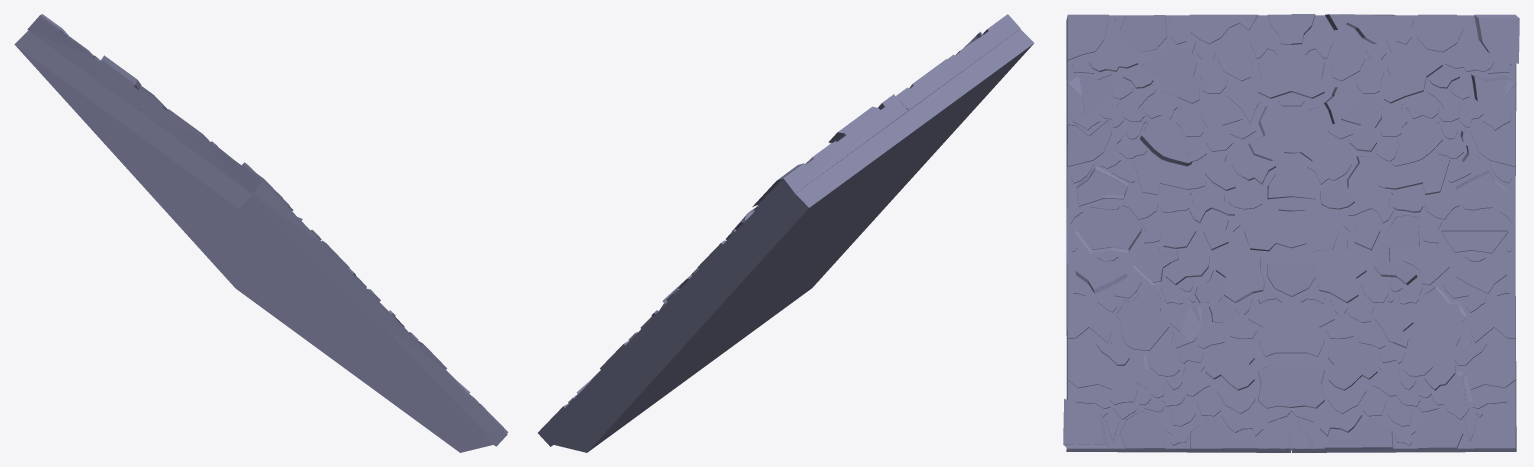
Rendered from Roof.fbx.
The picture shows the model from 3 angles, left to right: view 1: azimuth 30°, elevation 25°; view 2: azimuth 150°, elevation 25°; view 3: azimuth 270°, elevation 25°; orthographic projection.
Visible parts, largest first — view 1: ROOF, RoofTexture; view 2: ROOF, RoofTexture; view 3: RoofTexture, ROOF.
Part boxes in pixels (x1,y1,x2,y2): ROOF: (14, 30, 495, 452); RoofTexture: (27, 14, 508, 446); ROOF: (553, 29, 1033, 452); RoofTexture: (538, 14, 1020, 446); RoofTexture: (1063, 14, 1519, 452); ROOF: (1066, 21, 1067, 395).
Size of the model in its own units: 82.73 by 94.75 by 120.
